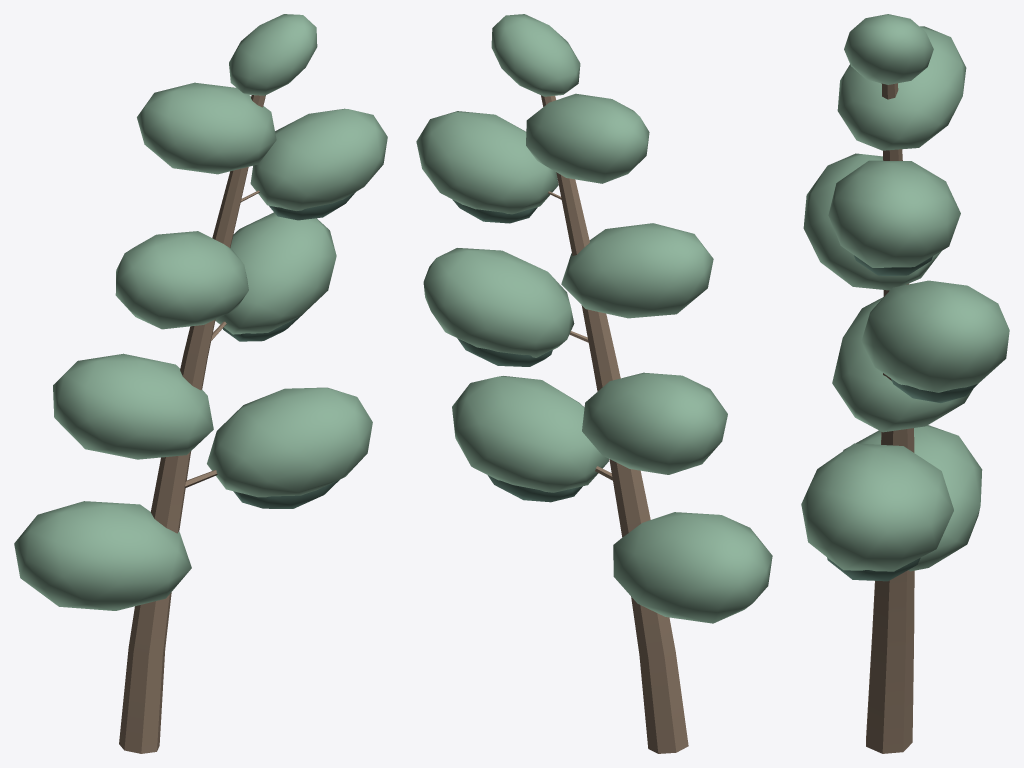
File: cloudloft_pine_bent.glb
The picture shows the model from 3 angles, left to right: view 1: azimuth 30°, elevation 25°; view 2: azimuth 150°, elevation 25°; view 3: azimuth 270°, elevation 25°; orthographic projection. The views are drawn at different scales.
Parts seen in each view (by area): view 1: cloudloft_pine_bent; view 2: cloudloft_pine_bent; view 3: cloudloft_pine_bent.
Part boxes in pixels (bbox=[...]): cloudloft_pine_bent: bbox=[14, 14, 387, 753]; cloudloft_pine_bent: bbox=[416, 14, 772, 753]; cloudloft_pine_bent: bbox=[801, 14, 1009, 753].
Bounding box in the file's own units: 3.12 × 5.95 × 1.39.
